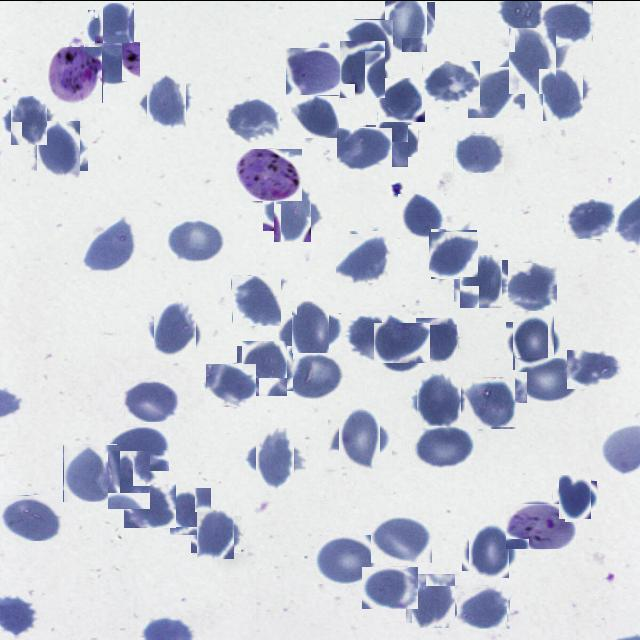difficult: (236, 148, 302, 200)
red blood cell: (504, 31, 561, 88), (63, 443, 117, 501), (314, 534, 376, 583), (514, 356, 579, 402), (468, 66, 525, 117), (104, 426, 169, 470), (80, 220, 136, 271), (372, 516, 434, 562), (0, 494, 62, 540), (285, 46, 343, 94), (287, 352, 344, 400), (334, 410, 386, 462), (464, 376, 516, 428), (338, 232, 390, 284), (422, 60, 480, 106), (412, 424, 474, 467), (166, 218, 225, 263), (337, 43, 388, 95), (121, 378, 179, 422), (240, 342, 290, 393), (232, 274, 282, 325), (34, 123, 84, 174), (504, 262, 557, 310), (414, 374, 464, 424), (285, 306, 335, 356), (250, 432, 300, 482), (150, 304, 200, 354), (104, 454, 154, 504), (336, 126, 392, 170), (226, 97, 280, 142), (84, 41, 140, 84), (344, 18, 393, 67), (408, 576, 458, 624), (456, 584, 510, 628), (362, 566, 418, 608), (268, 188, 318, 235), (142, 78, 190, 126), (510, 318, 558, 366), (466, 526, 514, 574), (458, 256, 506, 304), (430, 230, 478, 278), (378, 318, 426, 366), (381, 0, 431, 46), (124, 483, 176, 527), (398, 193, 446, 240), (205, 362, 256, 406), (91, 6, 138, 52), (542, 0, 593, 42), (540, 70, 586, 116), (292, 94, 338, 140), (346, 314, 393, 359), (377, 77, 425, 121), (567, 349, 621, 388), (453, 132, 504, 172), (564, 198, 615, 238), (169, 488, 213, 533), (194, 512, 238, 556), (7, 98, 50, 141), (371, 119, 413, 161), (416, 318, 458, 360), (556, 477, 594, 516)
ring: (505, 502, 576, 548)
trophozoite: (46, 46, 102, 102)
